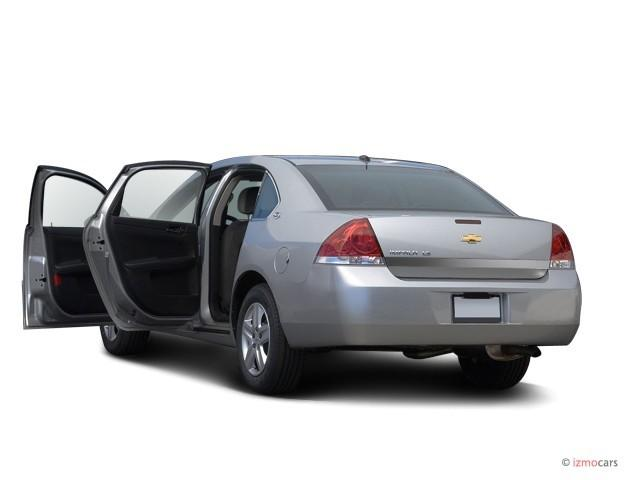Sedan: (21, 152, 582, 395)
